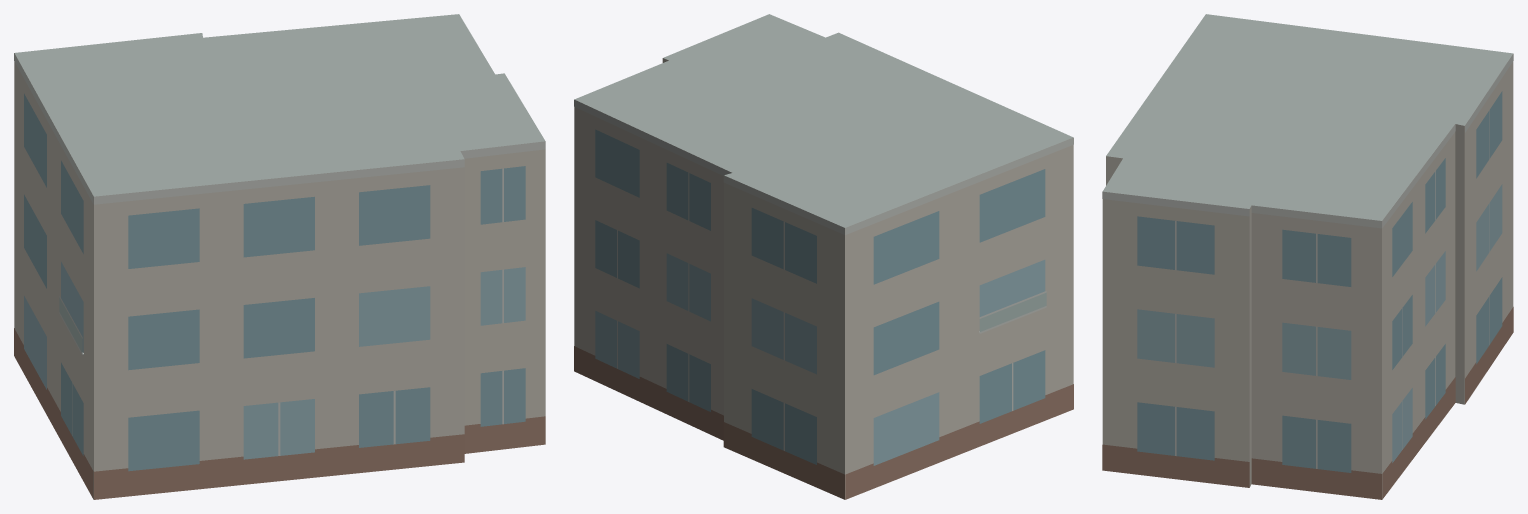
Rendered from survey-upis-32508811.glb.
The picture shows the model from 3 angles, left to right: view 1: azimuth 30°, elevation 25°; view 2: azimuth 150°, elevation 25°; view 3: azimuth 270°, elevation 25°; orthographic projection. The views are drawn at different scales.
Visible parts, largest first — view 1: survey-upis-32508811.tmp; view 2: survey-upis-32508811.tmp; view 3: survey-upis-32508811.tmp.
Part boxes in pixels (bbox=[...]): survey-upis-32508811.tmp: bbox=[14, 14, 545, 499]; survey-upis-32508811.tmp: bbox=[574, 14, 1073, 499]; survey-upis-32508811.tmp: bbox=[1102, 14, 1513, 499].
Size of the model in its own units: 14.58 by 9.15 by 12.23.
